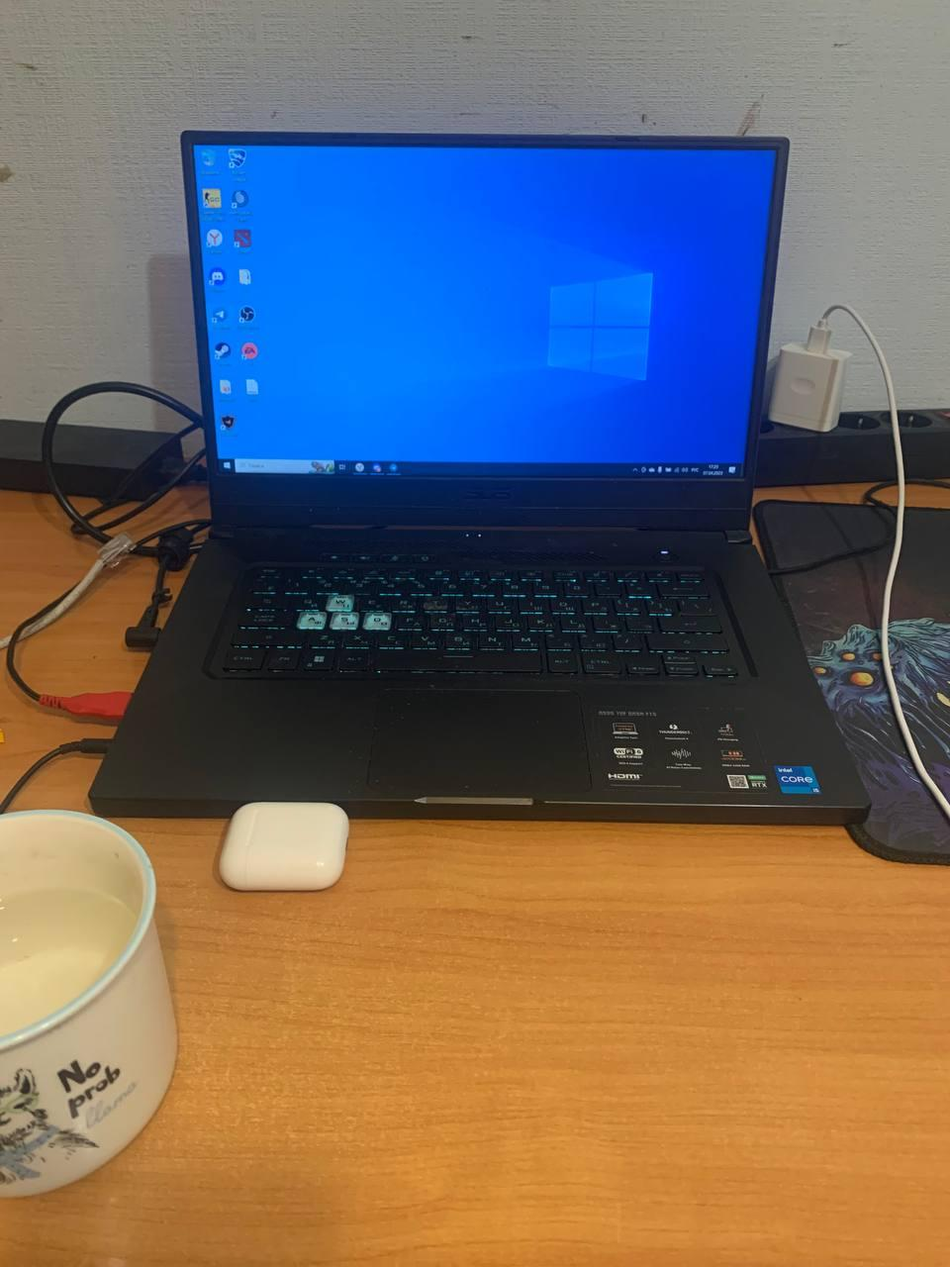monitor: (178, 123, 792, 519)
